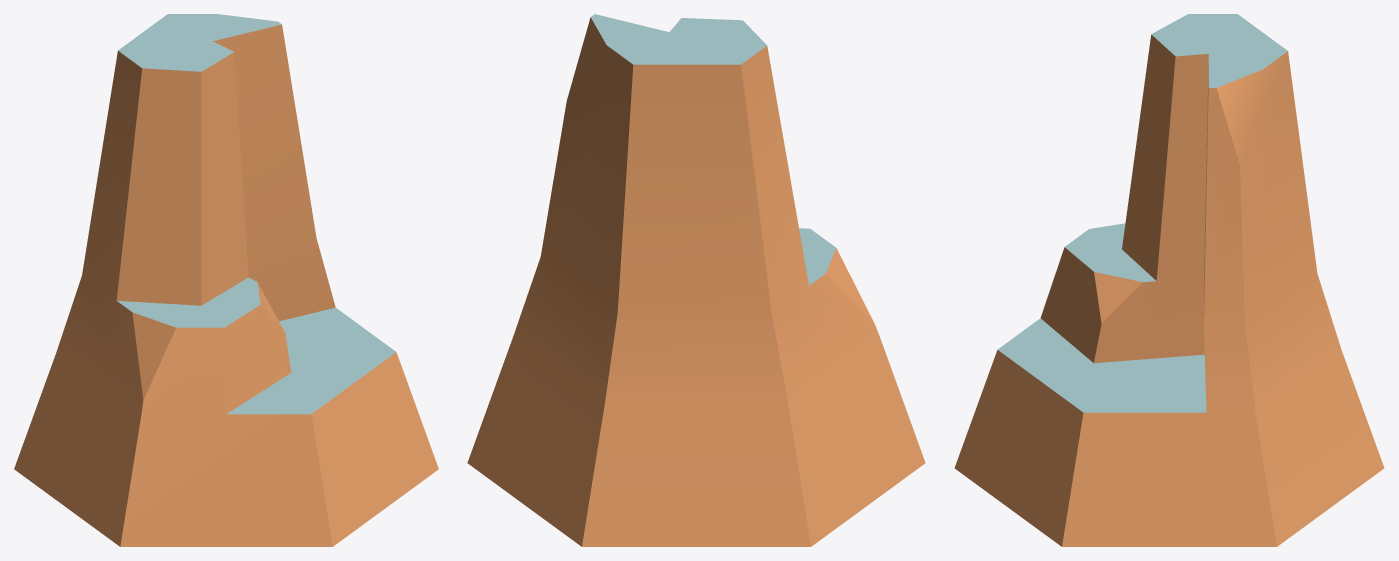
The model's file is rock_tall8.fbx.
3 views of the same model, side by side, from view 1: azimuth 30°, elevation 25°; view 2: azimuth 150°, elevation 25°; view 3: azimuth 270°, elevation 25° (orthographic). The views are drawn at different scales.
Parts seen in each view (by area): view 1: rock_tall8; view 2: rock_tall8; view 3: rock_tall8.
Boxes of the visible parts, bbox=[...] form: rock_tall8: bbox=[14, 14, 438, 546]; rock_tall8: bbox=[467, 14, 925, 546]; rock_tall8: bbox=[954, 14, 1384, 546].
Size of the model in its own units: 5.75 by 7.11 by 6.64.
